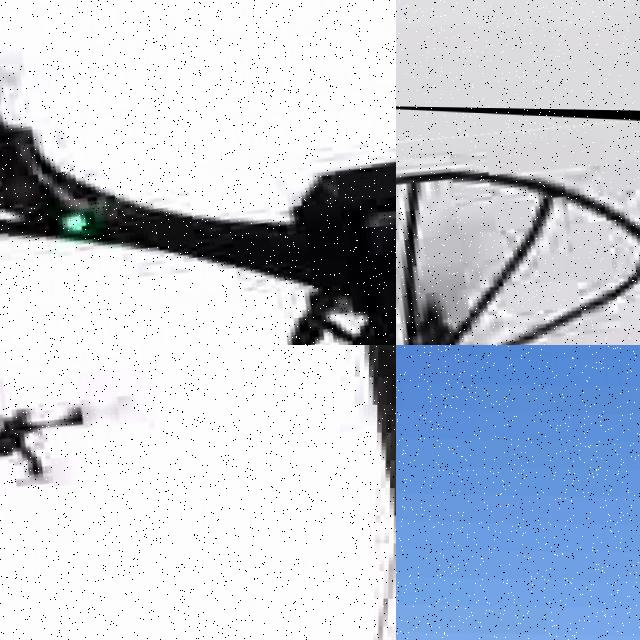drone: (0, 0, 396, 345), (396, 104, 640, 345), (0, 345, 150, 491)
